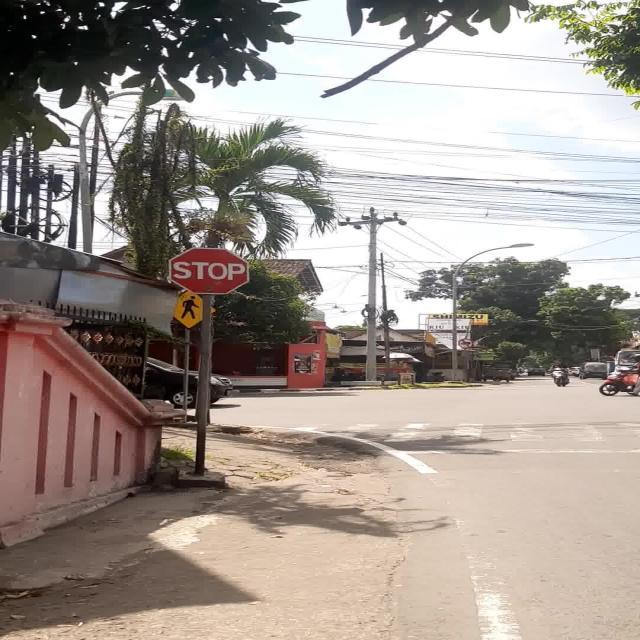Berhenti: (169, 248, 250, 294)
